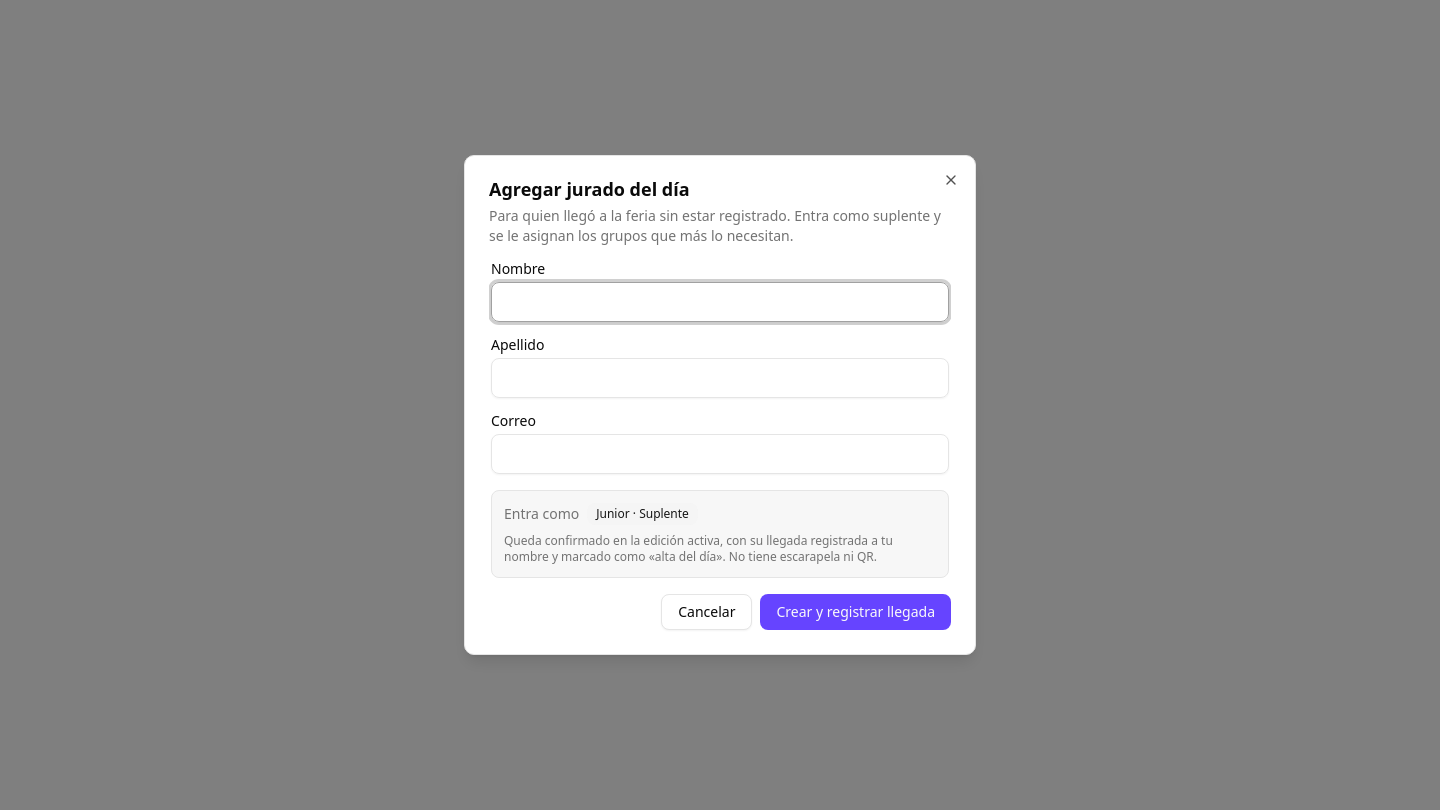
Test: Agregar jurado del día (HU-24, ARK-218) › correo repetido: no crea nada y ofrece marcar la llegada de ese jurado
Type "Laura" into the field labelled "Nombre" at (720, 302), box [491,282,949,322]
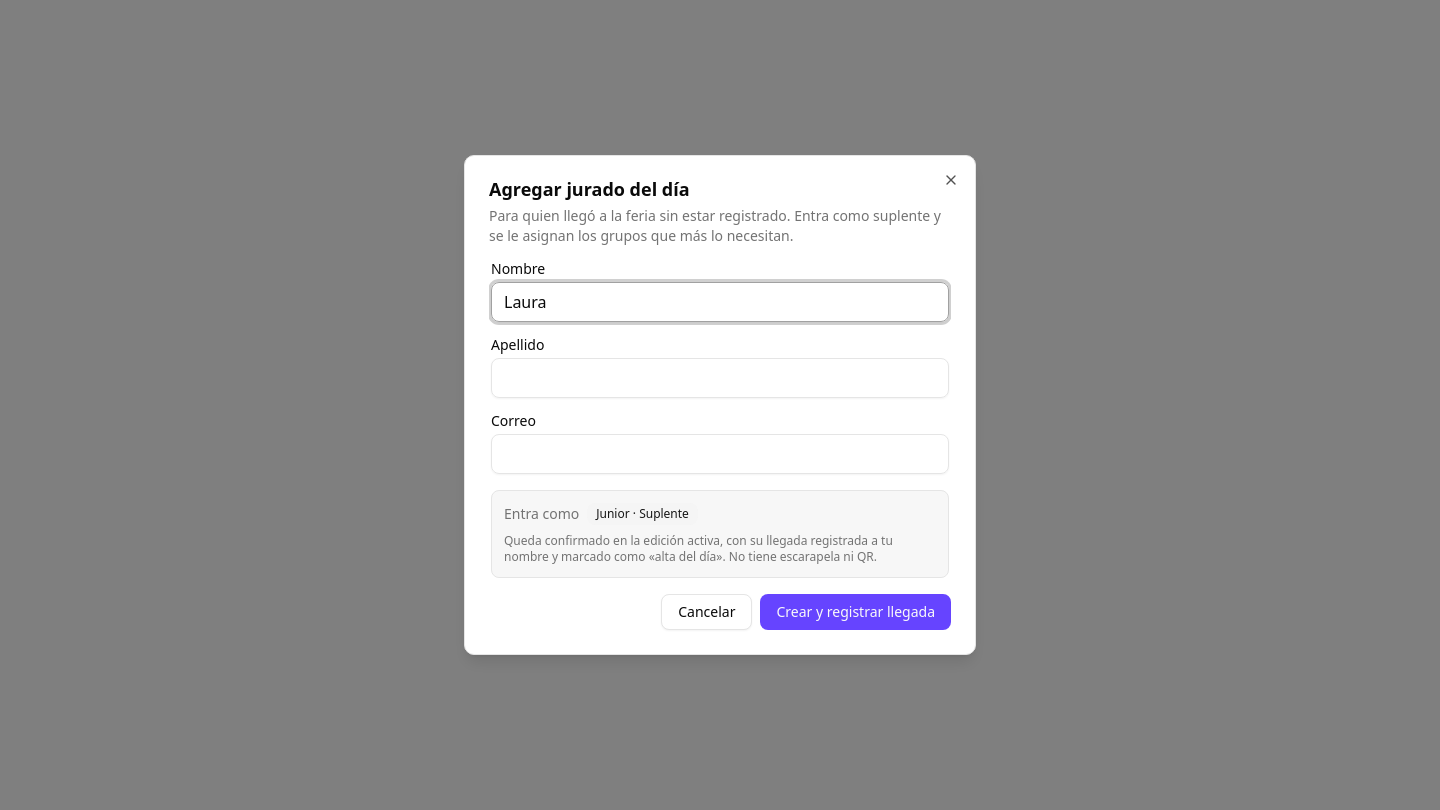
Type "Gómez Ruiz" into the field labelled "Apellido" at (720, 378), box [491,358,949,398]
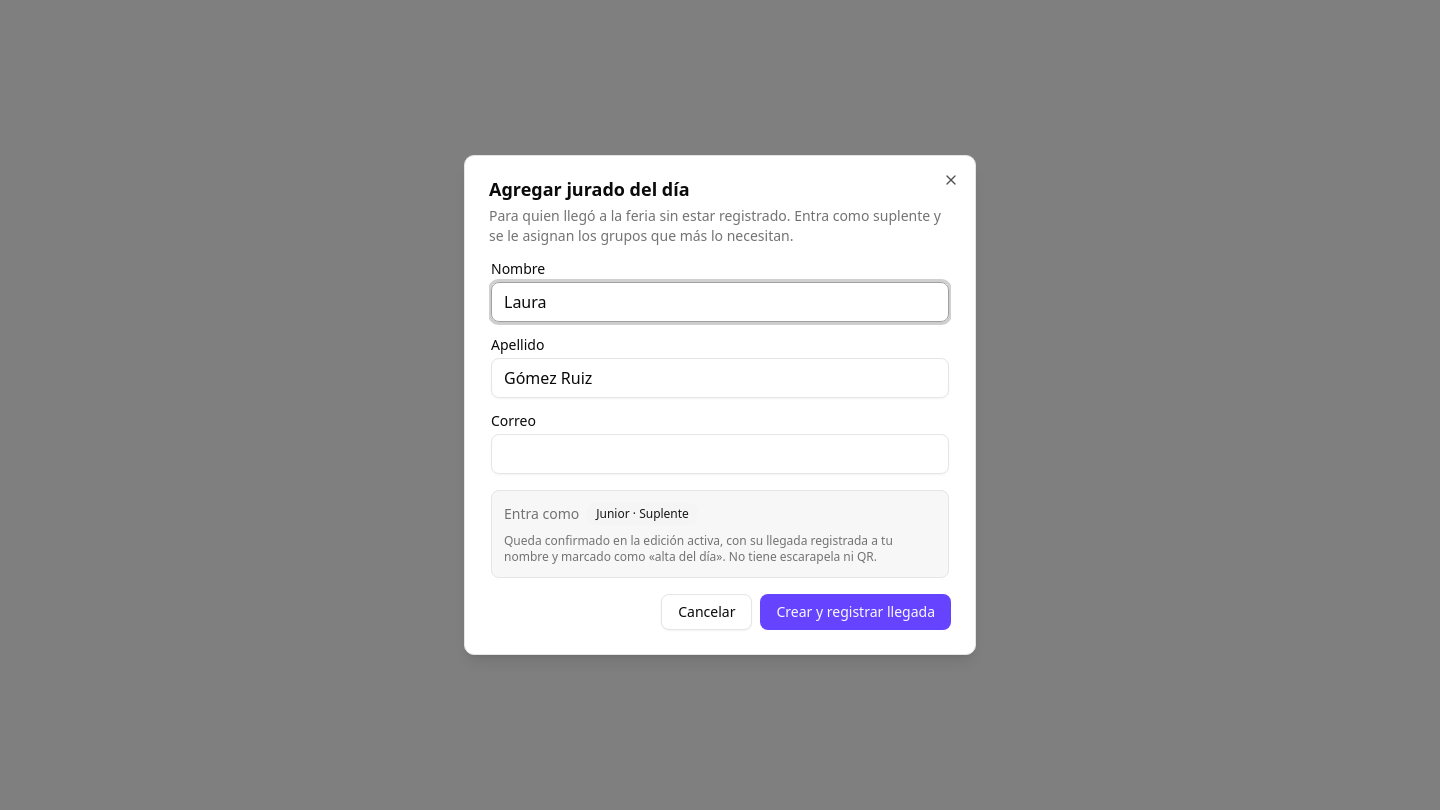
Type "laura@ejemplo.com" into the field labelled "Correo" at (720, 454), box [491,434,949,474]
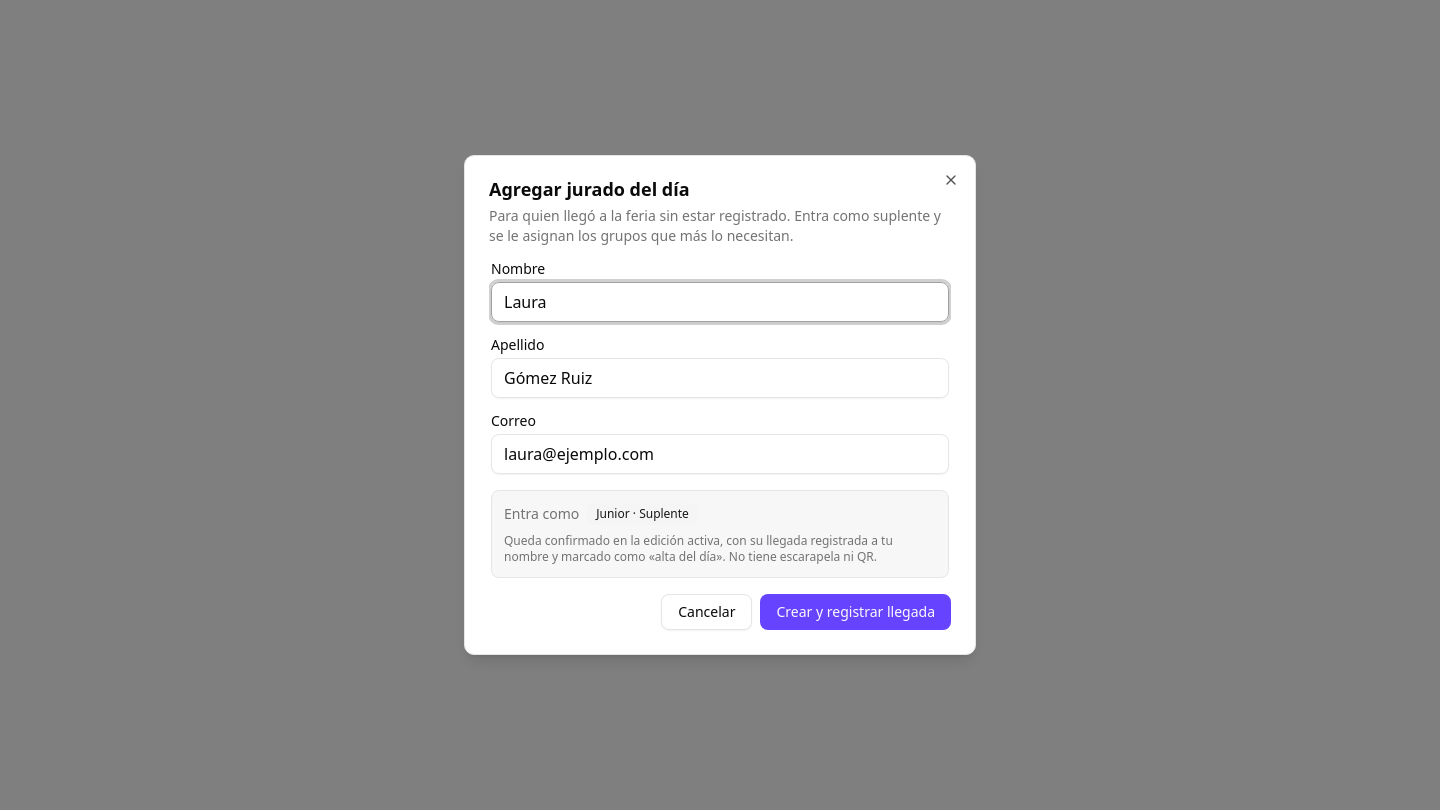
Click the button "Crear y registrar llegada" at (856, 612), box [760,594,951,630]
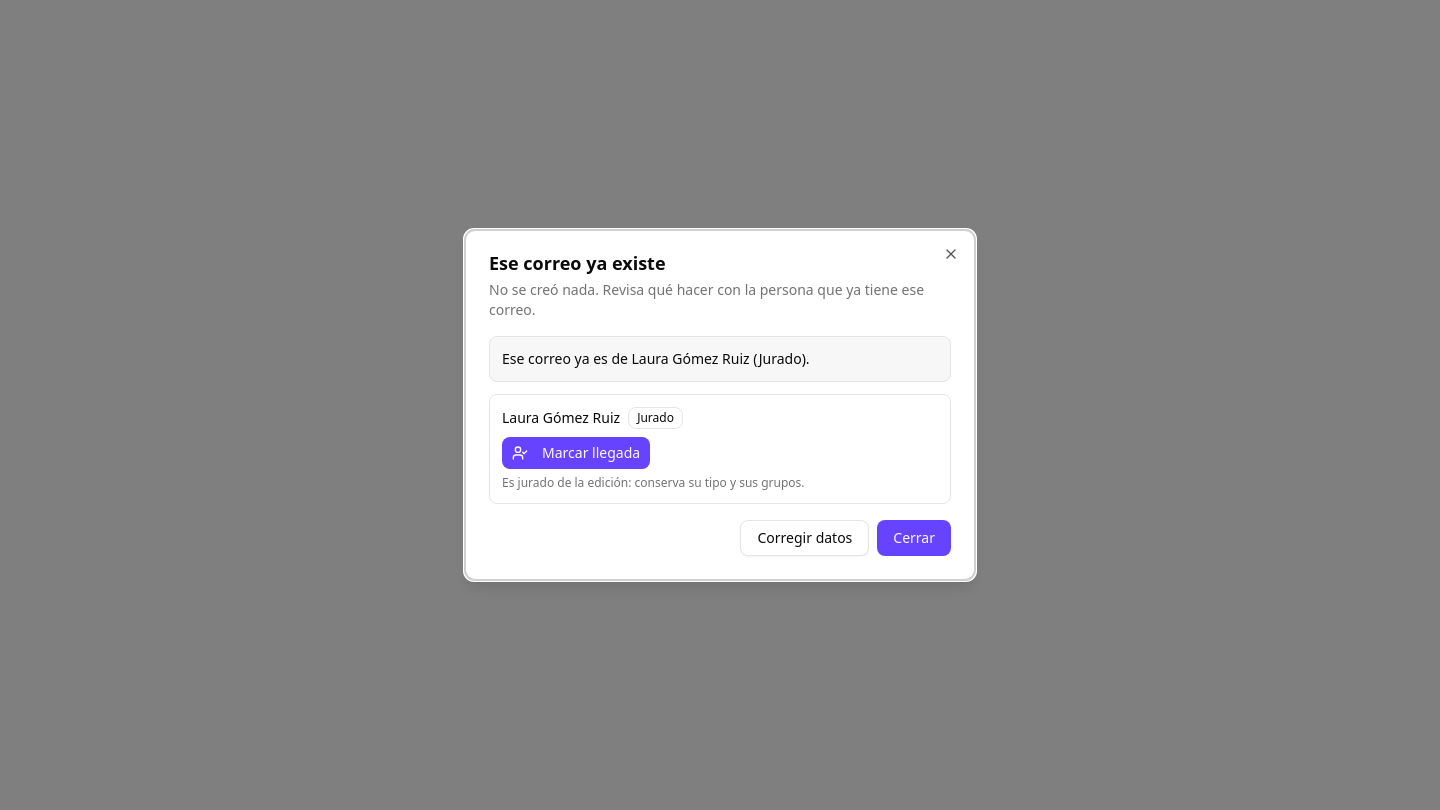
Check: the heading "Ese correo ya existe" is shown, box [489,251,666,275]
Click the button "Marcar llegada" at (576, 453), box [502,437,650,469]
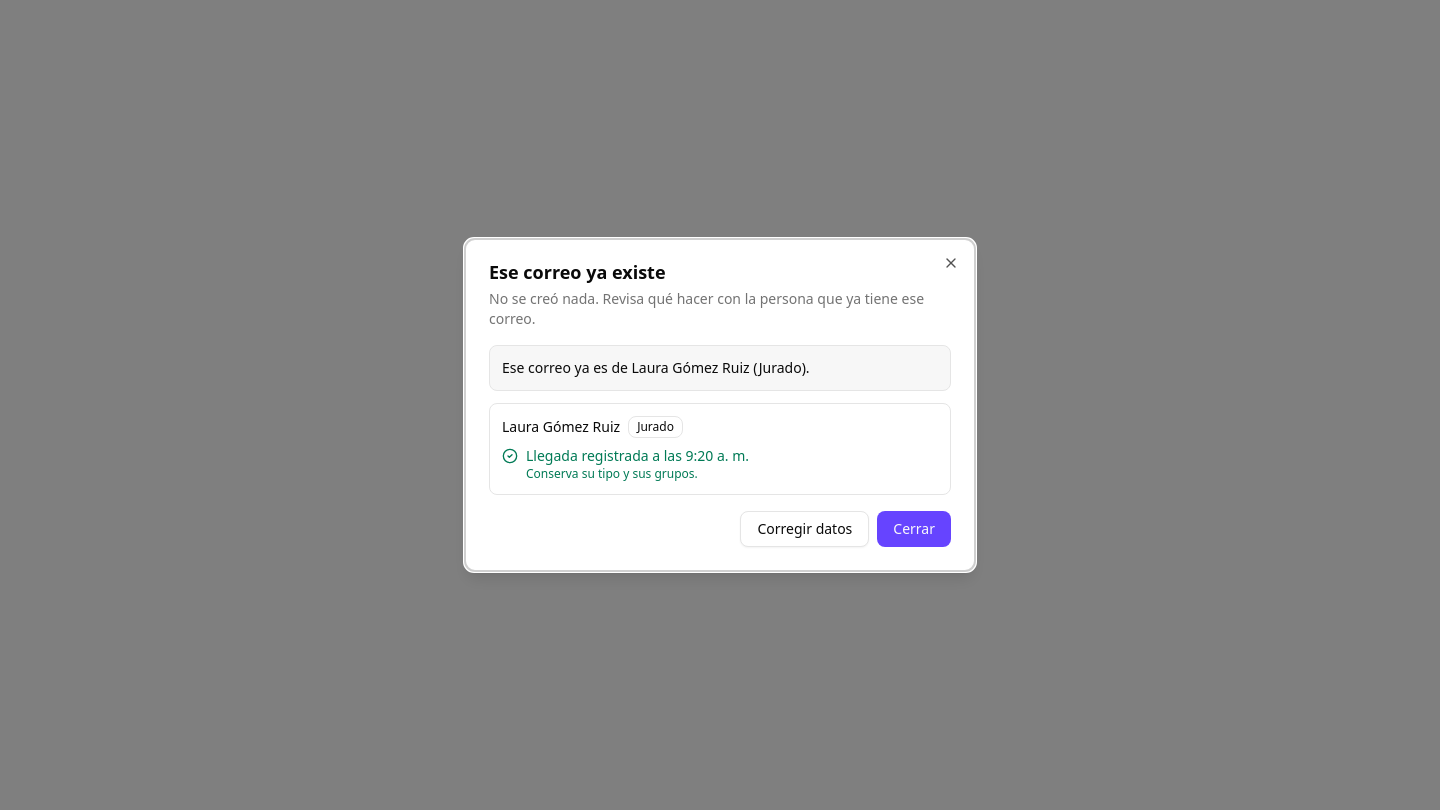
Check: the text "Llegada registrada a las 9:20" is shown, box [526,446,749,482]
